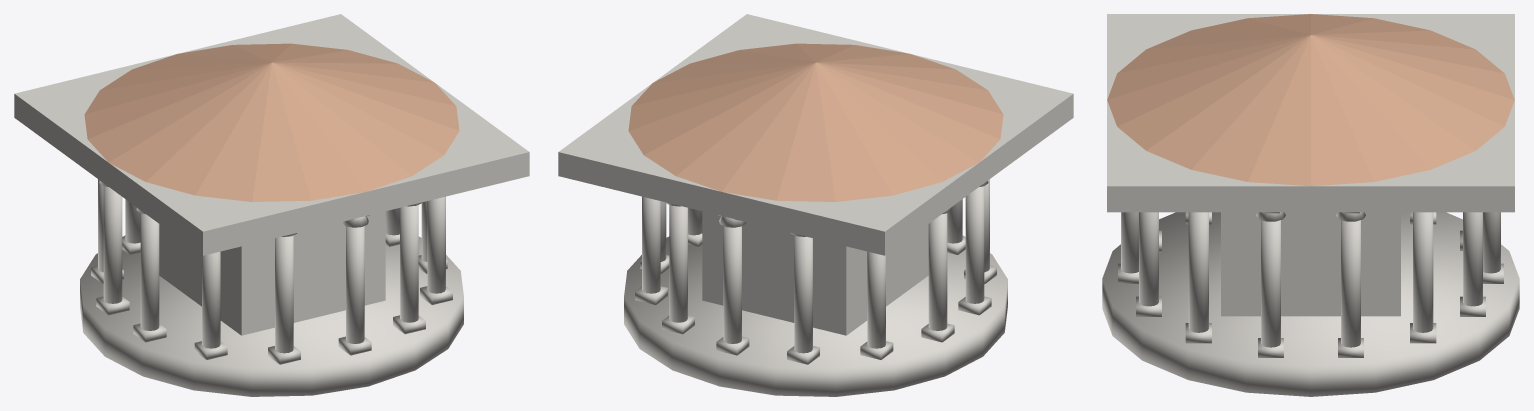
Rendered from vesta_tholos.glb.
The picture shows the model from 3 angles, left to right: view 1: azimuth 30°, elevation 25°; view 2: azimuth 150°, elevation 25°; view 3: azimuth 270°, elevation 25°; orthographic projection. The views are drawn at different scales.
Parts seen in each view (by area): view 1: merged_marble, tholos_roof; view 2: merged_marble, tholos_roof; view 3: merged_marble, tholos_roof.
Boxes of the visible parts, left/top/right/bottom form: merged_marble: left=14, top=14, right=529, bottom=396; tholos_roof: left=84, top=43, right=459, bottom=201; merged_marble: left=558, top=14, right=1073, bottom=396; tholos_roof: left=628, top=43, right=1003, bottom=201; merged_marble: left=1102, top=14, right=1519, bottom=396; tholos_roof: left=1107, top=14, right=1514, bottom=186.
Size of the model in its own units: 17.4 by 12.6 by 17.4.
